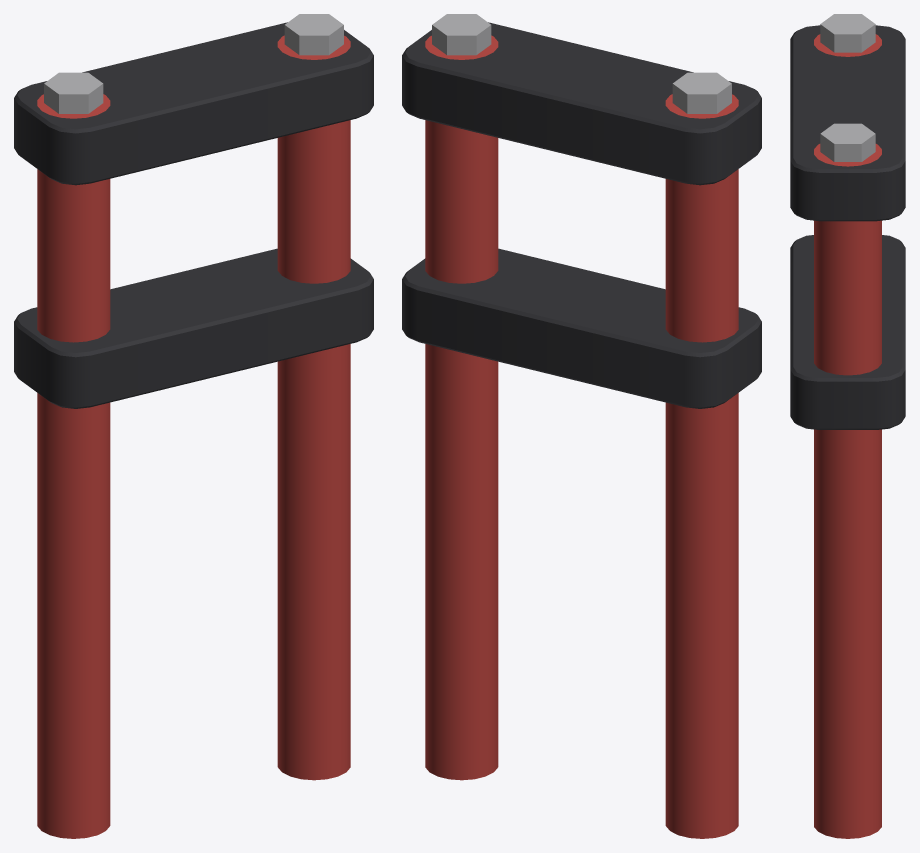
Rendered from mx_vintage_fork_upper.glb.
3 views of the same model, side by side, from view 1: azimuth 30°, elevation 25°; view 2: azimuth 150°, elevation 25°; view 3: azimuth 270°, elevation 25° (orthographic). The views are drawn at different scales.
Parts seen in each view (by area): view 1: lod0; view 2: lod0; view 3: lod0.
Part boxes in pixels (box(x1,y1,x2,y2)): lod0: box(14, 14, 373, 838); lod0: box(402, 14, 761, 838); lod0: box(790, 14, 905, 838).
Size of what is drawn, in the model's own units: 0.24 by 0.529 by 0.08.
